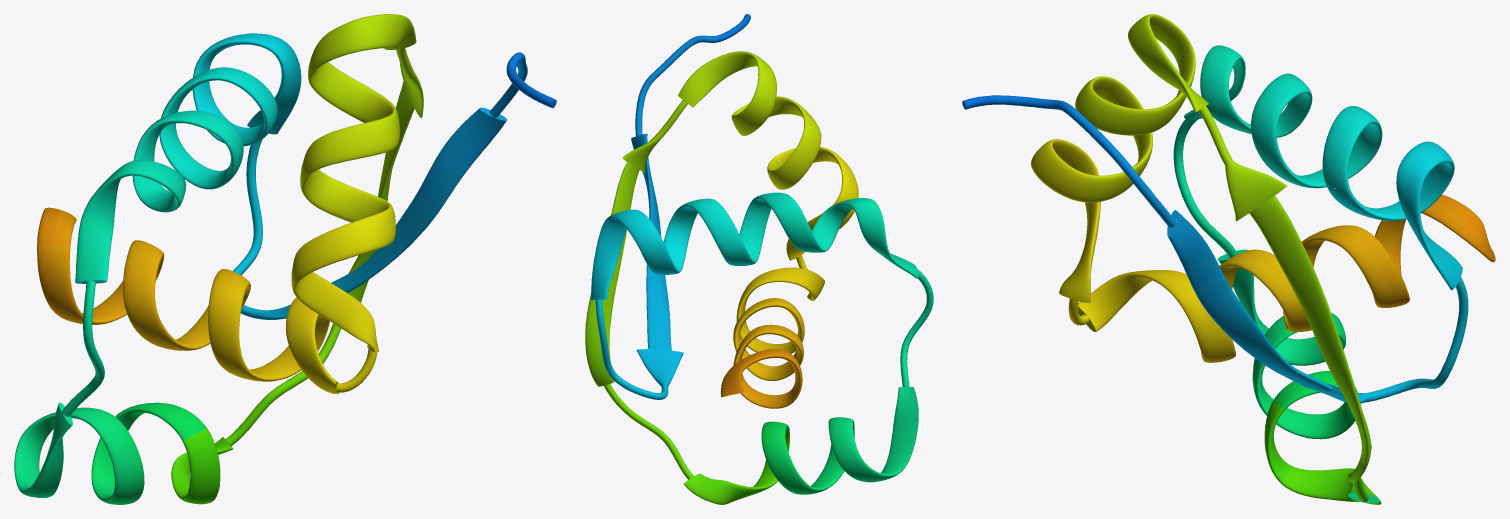
Rendered from knotDraco-transformed.glb.
3 renders of one model, left to right at view 1: azimuth 30°, elevation 25°; view 2: azimuth 150°, elevation 25°; view 3: azimuth 270°, elevation 25°, orthographic. The views are drawn at different scales.
Visible parts, largest first — view 1: subnode_4, subnode_1, subnode_2, subnode_0; view 2: subnode_1, subnode_2, subnode_0, subnode_4; view 3: subnode_2, subnode_4, subnode_1, subnode_0, subnode_3.
Part boxes in pixels (x1,y1,x2,y2): subnode_4: (37,203,395,393); subnode_1: (14,67,277,504); subnode_2: (171,14,423,504); subnode_0: (192,33,554,319); subnode_1: (668,192,933,494); subnode_2: (585,51,821,504); subnode_0: (591,14,750,399); subnode_4: (720,146,858,408); subnode_2: (1075,14,1381,504); subnode_4: (1031,139,1495,362); subnode_1: (1173,45,1382,439); subnode_0: (963,95,1468,403); subnode_3: (962,101,1379,503).
Bounding box in the file's own units: 26.55 × 30.76 × 28.51.
